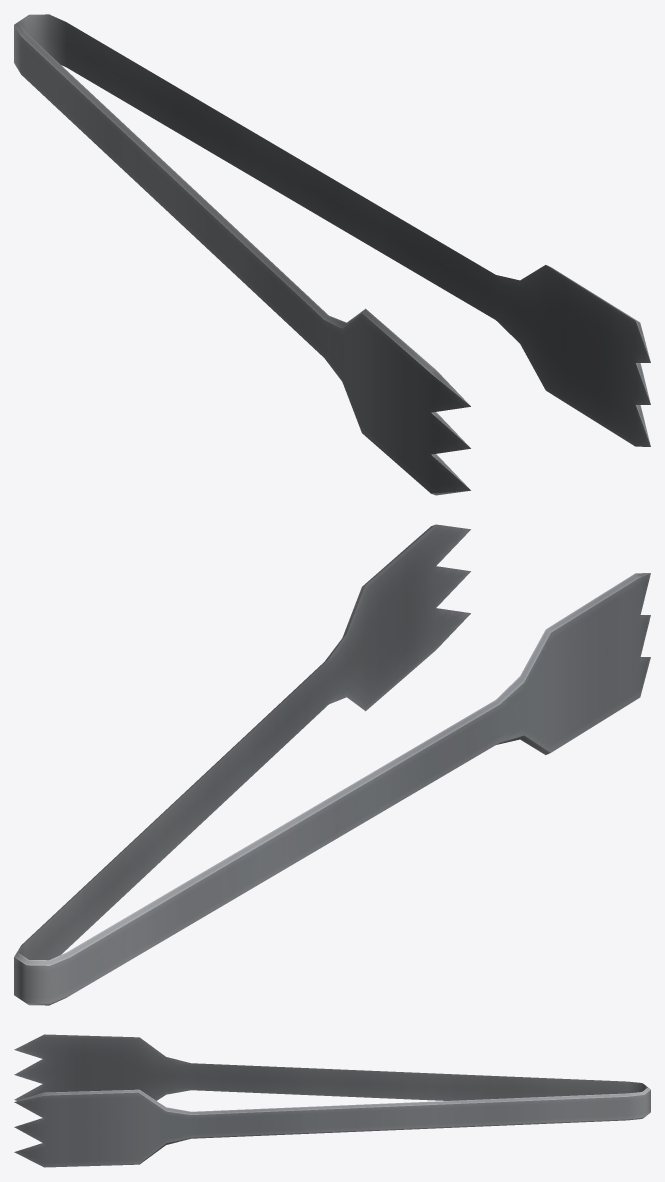
Rendered from jsf_Tong_01.fbx.
3 renders of one model, top to bottom at view 1: azimuth 30°, elevation 25°; view 2: azimuth 150°, elevation 25°; view 3: azimuth 270°, elevation 25°, orthographic. The views are drawn at different scales.
Visible parts, largest first — view 1: jsf_Tong_01; view 2: jsf_Tong_01; view 3: jsf_Tong_01.
Boxes of the visible parts, left/top/right/bottom form: jsf_Tong_01: left=14, top=14, right=650, bottom=495; jsf_Tong_01: left=14, top=524, right=650, bottom=1005; jsf_Tong_01: left=14, top=1034, right=650, bottom=1167.
Bounding box in the file's own units: 4.83 × 2.78 × 21.37.
